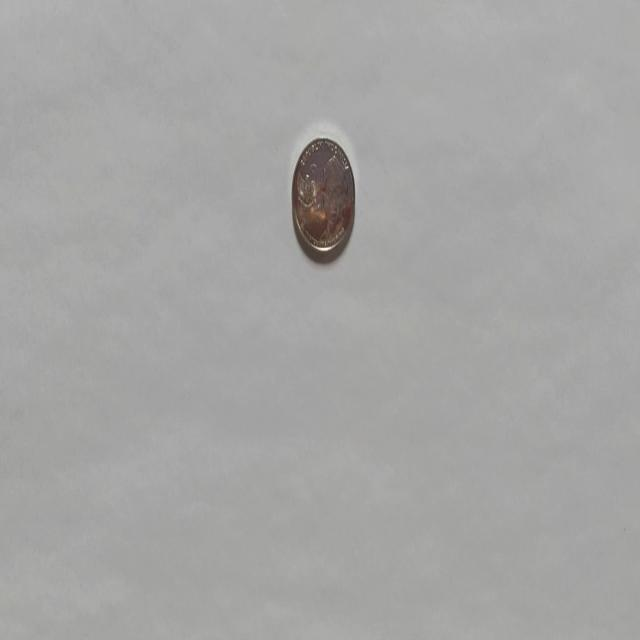dua ratus rupiah: (290, 135, 356, 260)
